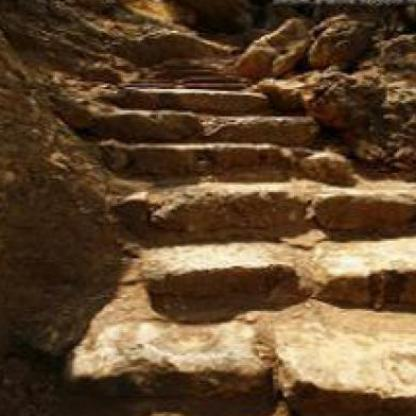stair_up: (107, 104, 416, 283)
